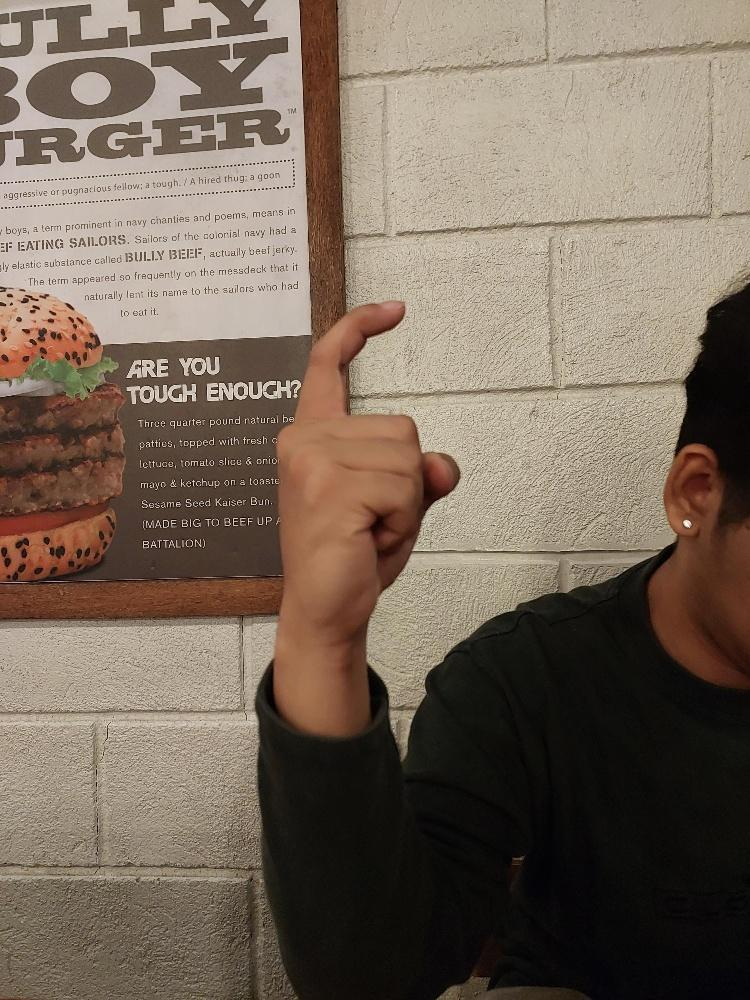x: (273, 297, 463, 641)
